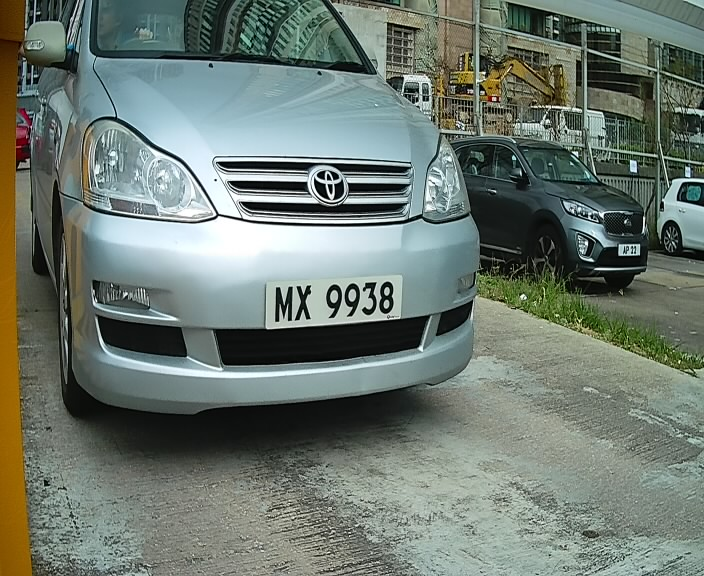Car: (35, 2, 513, 455)
License Plate: (258, 265, 414, 337)
